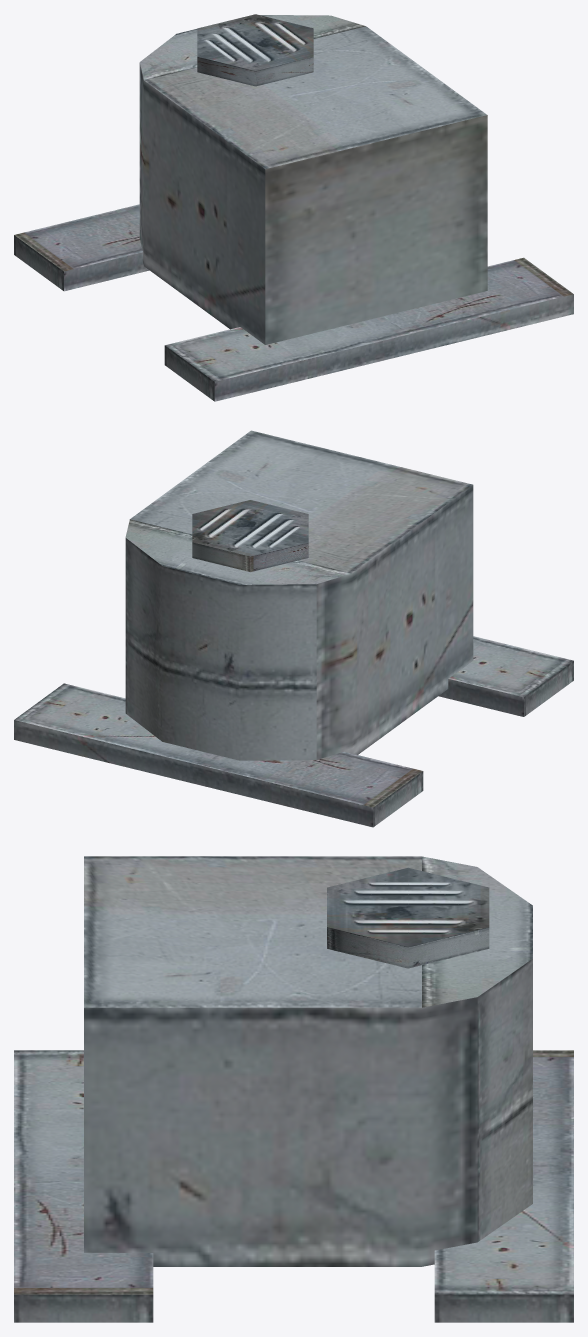
Rendered from Air_vent2.fbx.
3 views of the same model, one above another, from view 1: azimuth 30°, elevation 25°; view 2: azimuth 150°, elevation 25°; view 3: azimuth 270°, elevation 25° (orthographic). The views are drawn at different scales.
Parts seen in each view (by area): view 1: Air_vent2; view 2: Air_vent2; view 3: Air_vent2.
Part boxes in pixels (bbox=[...]): Air_vent2: bbox=[14, 14, 573, 401]; Air_vent2: bbox=[14, 430, 573, 827]; Air_vent2: bbox=[14, 856, 573, 1322].
Bounding box in the file's own units: 98.07 × 55.12 × 94.92.
